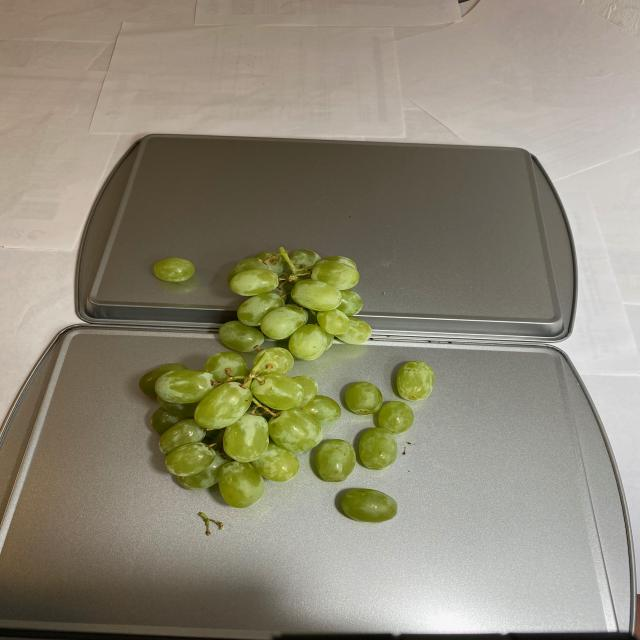Grapes: (144, 250, 431, 526)
